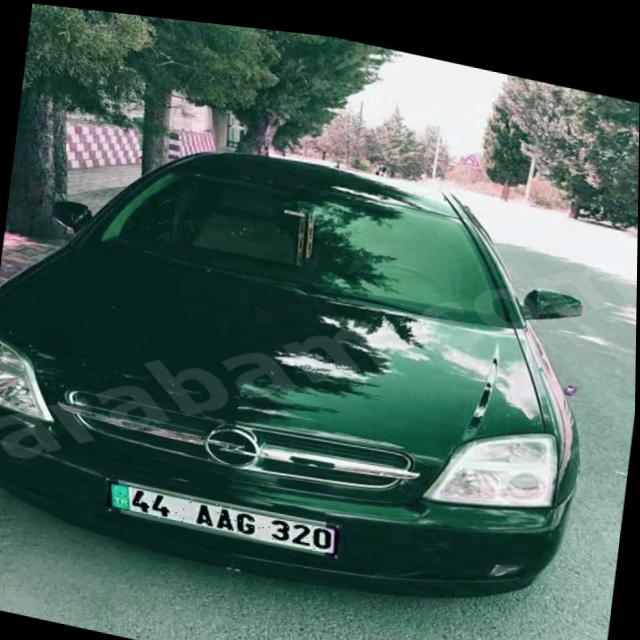license_plate: (107, 477, 341, 548)
